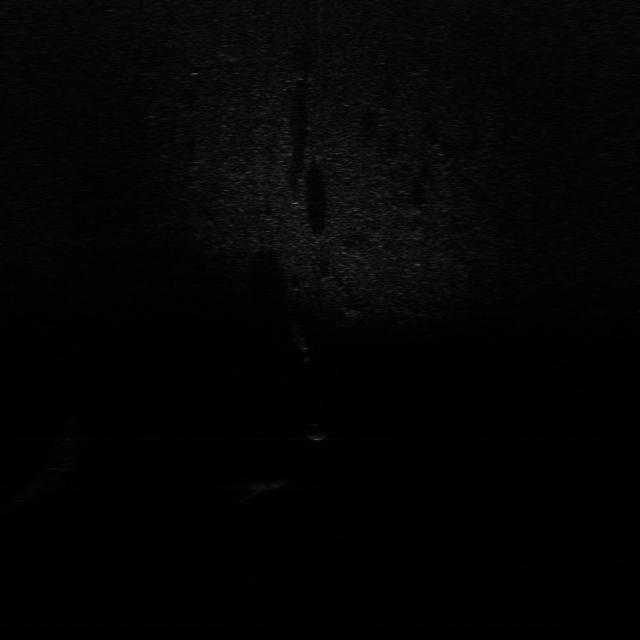ball: (302, 420, 329, 442)
human body: (288, 308, 318, 366)
square cage: (242, 473, 292, 496)
